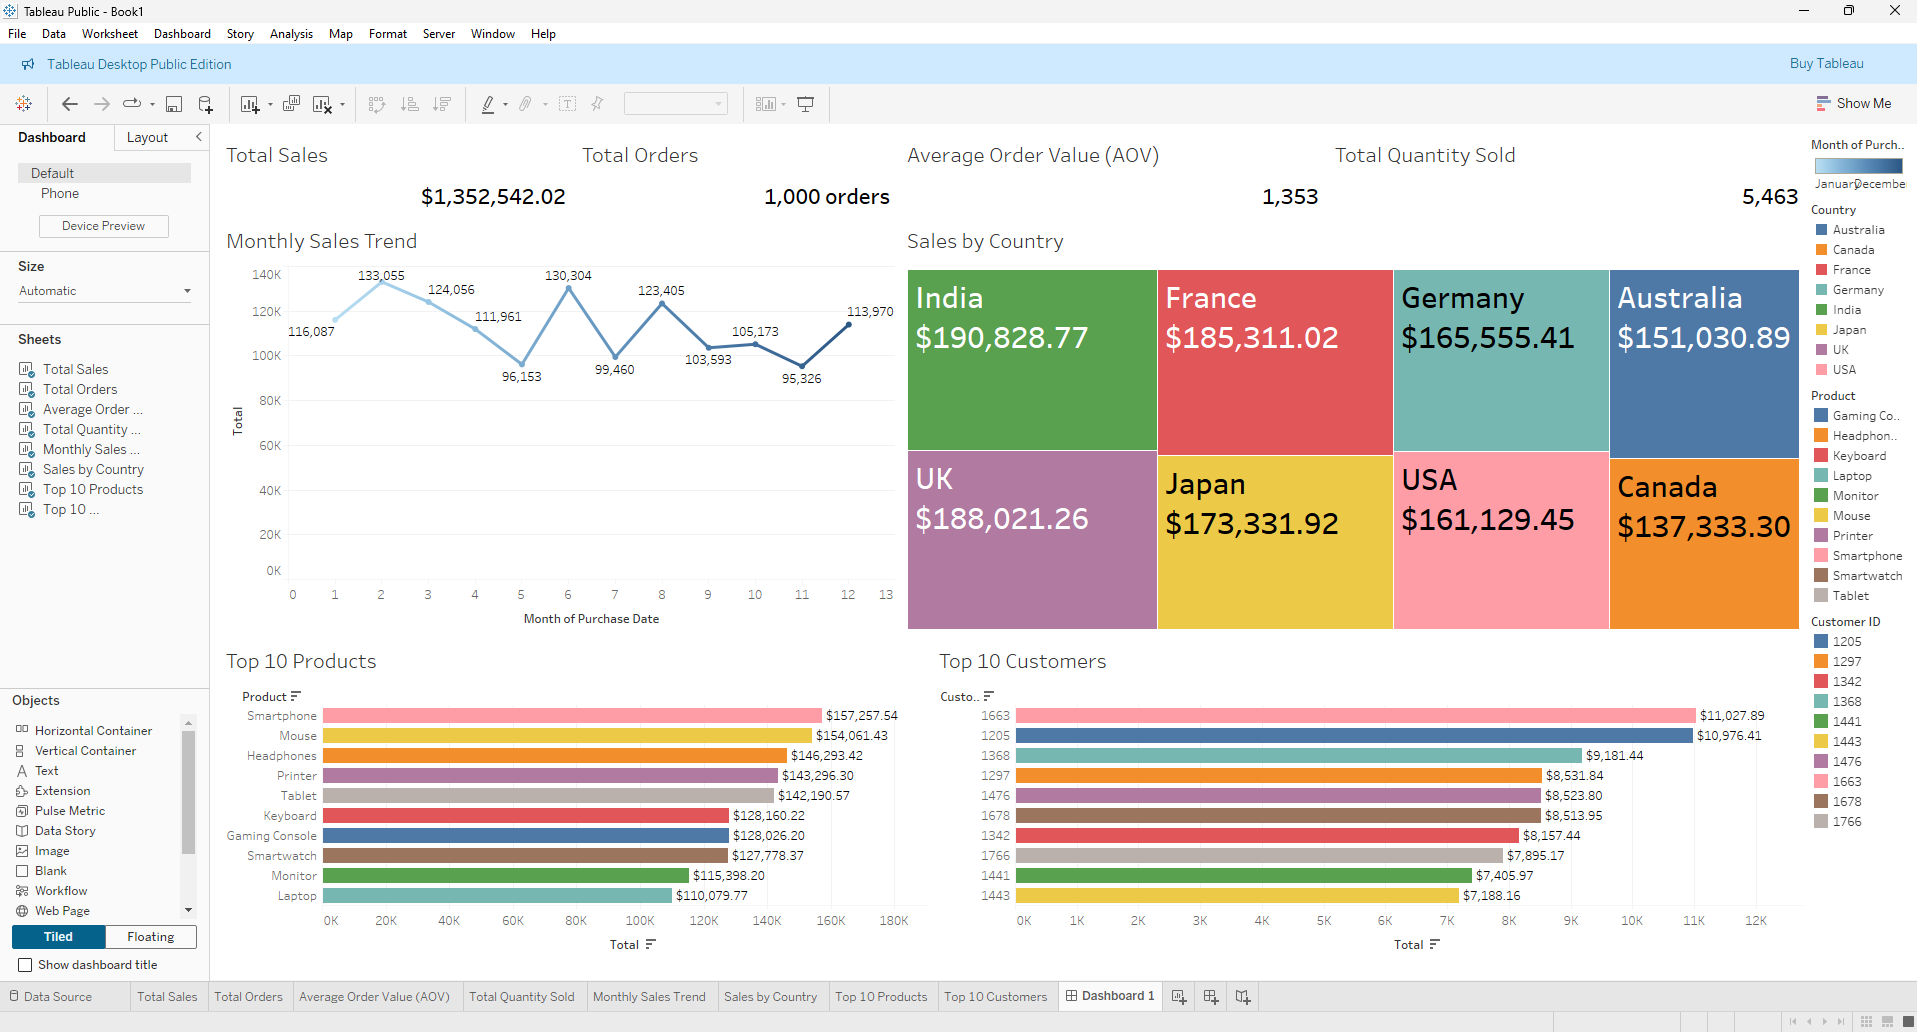

Layout of this report page (visuals, bound fields, positions):
{"tool":"tableau","page":{"name":"Dashboard 1","canvas":[1000,1000],"units":"permille","ordinal":0},"visuals":[{"type":"worksheet","title":"Total Sales","mark":"Automatic","box":[4.7,9.3,208,100.5]},{"type":"worksheet","title":"Total Orders","mark":"Automatic","box":[212.7,9.3,190.5,100.5]},{"type":"worksheet","title":"Average Order Value (AOV)","mark":"Automatic","box":[403.2,9.3,250.5,100.5]},{"type":"worksheet","title":"Total Quantity Sold","mark":"Automatic","box":[653.6,9.3,280.8,100.5]},{"type":"legend","title":"Monthly Sales Trend","param":"[federated.16zi0sm1gcpuc917jhn9k1nhc59m].[mn:PurchaseDate:qk]","box":[934.5,9.3,60.9,75.9]},{"type":"legend","title":"Sales by Country","param":"[federated.16zi0sm1gcpuc917jhn9k1nhc59m].[none:Country:nk]","box":[934.5,85.3,60.9,217.3]},{"type":"worksheet","title":"Monthly Sales Trend","mark":"Automatic","rows":["Total"],"cols":["PurchaseDate"],"box":[4.7,109.8,398.5,490.7]},{"type":"worksheet","title":"Sales by Country","mark":"Automatic","box":[403.2,109.8,531.3,490.7]},{"type":"legend","title":"Top 10 Products","param":"[federated.16zi0sm1gcpuc917jhn9k1nhc59m].[none:Product:nk]","box":[934.5,302.6,60.9,264]},{"type":"legend","title":"Top 10 Customers","param":"[federated.16zi0sm1gcpuc917jhn9k1nhc59m].[none:CustomerID:ok]","box":[934.5,566.6,60.9,264]},{"type":"worksheet","title":"Top 10 Products","mark":"Automatic","rows":["Product"],"cols":["Total"],"box":[4.7,600.5,417.3,390.2]},{"type":"worksheet","title":"Top 10 Customers","mark":"Automatic","rows":["CustomerID"],"cols":["Total"],"box":[422,600.5,512.5,390.2]}]}

Visuals, with their boxes on the dashboard's canvas, which has no fixed pixel size, in thousandths of its width and height (x1, y1, x2, y2). These are canvas units, not pixel positions in the 1917x1032 screenshot, which may show the page scaled, cropped or inside an application window:
"Total Sales" worksheet: (5, 9, 213, 110)
"Total Orders" worksheet: (213, 9, 403, 110)
"Average Order Value (AOV)" worksheet: (403, 9, 654, 110)
"Total Quantity Sold" worksheet: (654, 9, 934, 110)
"Monthly Sales Trend" legend: (934, 9, 995, 85)
"Sales by Country" legend: (934, 85, 995, 303)
"Monthly Sales Trend" worksheet: (5, 110, 403, 600)
"Sales by Country" worksheet: (403, 110, 934, 600)
"Top 10 Products" legend: (934, 303, 995, 567)
"Top 10 Customers" legend: (934, 567, 995, 831)
"Top 10 Products" worksheet: (5, 600, 422, 991)
"Top 10 Customers" worksheet: (422, 600, 934, 991)
